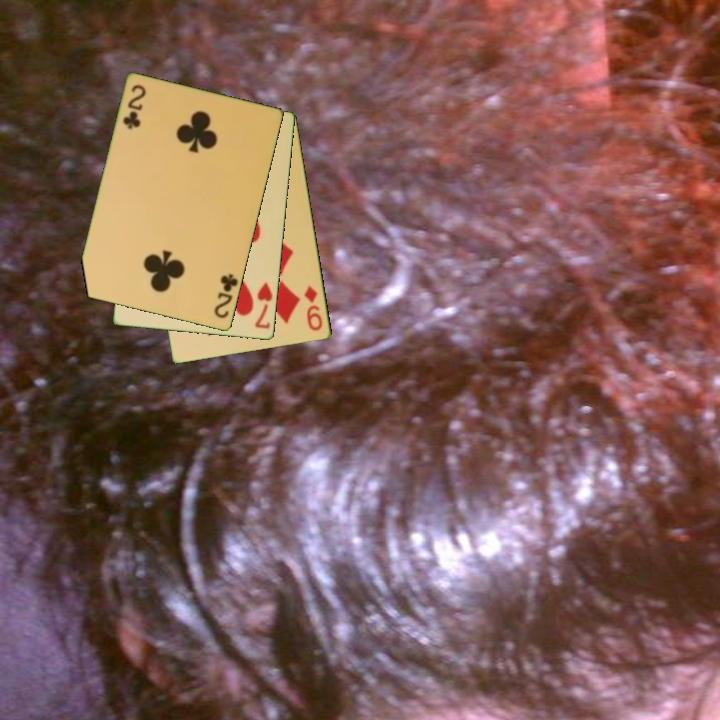2c: (120, 81, 149, 133), (211, 271, 241, 321)
7h: (251, 279, 275, 332)
9d: (301, 282, 325, 334)
